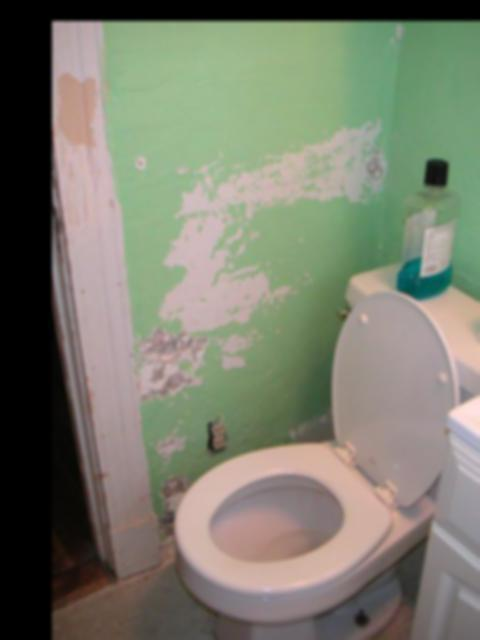Sanitario: (172, 259, 480, 640)
